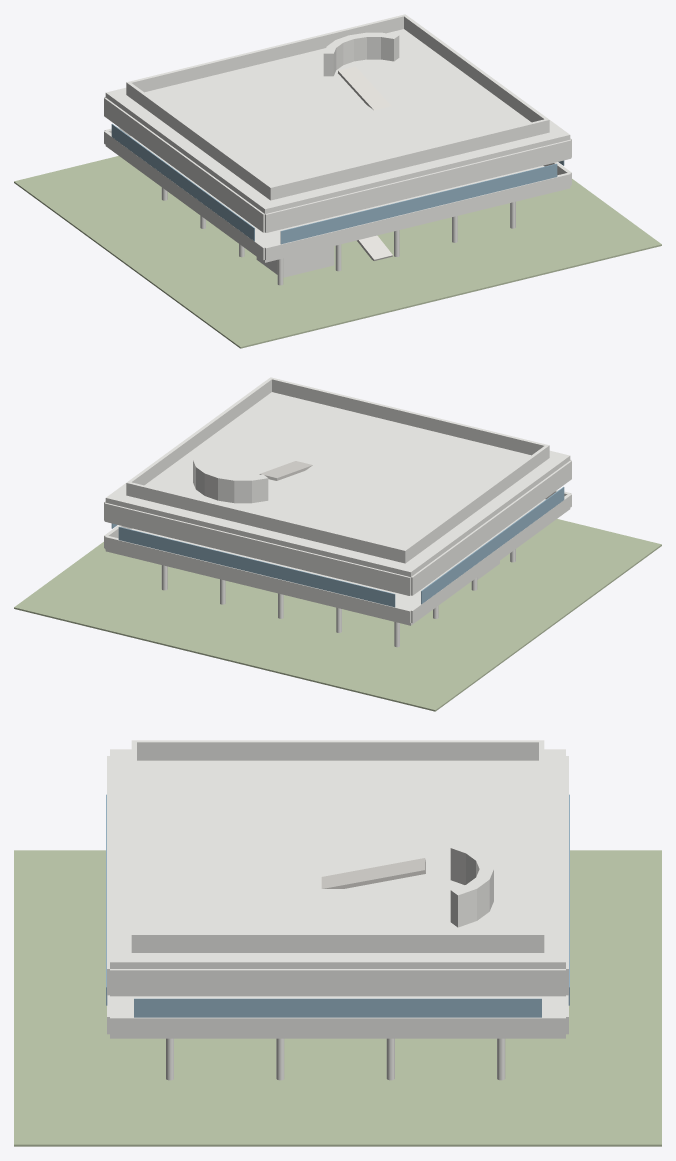
File: villa_savoye_concept.glb
3 views of the same model, one above another, from view 1: azimuth 30°, elevation 25°; view 2: azimuth 150°, elevation 25°; view 3: azimuth 270°, elevation 25° (orthographic). The views are drawn at different scales.
Visible parts, largest first — view 1: site, roof_slab, south_upper_band, roof_south_parapet, south_lower_band, south_ribbon_window, roof_north_parapet, west_upper_band, roof_west_parapet, first_floor_slab, roof_east_parapet, curved_solarium_screen (+5 smaller); view 2: site, roof_slab, north_upper_band, roof_north_parapet, north_lower_band, roof_south_parapet, north_ribbon_window, west_upper_band, roof_west_parapet, first_floor_slab, roof_east_parapet, curved_solarium_screen (+3 smaller); view 3: site, roof_slab, east_upper_band, east_lower_band, roof_east_parapet, roof_west_parapet, east_ribbon_window, first_floor_slab, curved_solarium_screen, roof_ramp, roof_north_parapet, roof_south_parapet (+2 smaller).
Part boxes in pixels (x1,y1,x2,y2): site: [14, 156, 661, 348]; roof_slab: [105, 23, 570, 213]; south_upper_band: [265, 140, 571, 232]; roof_south_parapet: [268, 118, 549, 200]; south_lower_band: [264, 173, 571, 260]; south_ribbon_window: [280, 163, 557, 244]; roof_north_parapet: [126, 14, 406, 95]; west_upper_band: [104, 97, 264, 232]; roof_west_parapet: [128, 83, 272, 199]; first_floor_slab: [105, 136, 570, 262]; roof_east_parapet: [404, 15, 549, 129]; curved_solarium_screen: [323, 32, 399, 76]; site: [14, 519, 661, 711]; roof_slab: [105, 386, 570, 576]; north_upper_band: [104, 503, 410, 595]; roof_north_parapet: [126, 481, 407, 563]; north_lower_band: [104, 535, 411, 623]; roof_south_parapet: [269, 377, 548, 455]; north_ribbon_window: [118, 526, 395, 607]; west_upper_band: [411, 460, 571, 595]; roof_west_parapet: [404, 445, 549, 561]; first_floor_slab: [105, 499, 570, 625]; roof_east_parapet: [128, 377, 271, 485]; curved_solarium_screen: [193, 459, 268, 503]; site: [14, 850, 661, 1146]; roof_slab: [110, 749, 565, 968]; east_upper_band: [110, 969, 565, 996]; east_lower_band: [110, 1015, 565, 1035]; roof_east_parapet: [131, 932, 539, 952]; roof_west_parapet: [132, 740, 539, 760]; east_ribbon_window: [134, 998, 541, 1017]; first_floor_slab: [110, 996, 565, 1038]; curved_solarium_screen: [450, 843, 493, 927]; roof_ramp: [321, 858, 425, 888]; roof_north_parapet: [539, 740, 544, 952]; roof_south_parapet: [131, 740, 136, 952].
Bounding box in the file's own units: 29 × 8.1 × 27.
